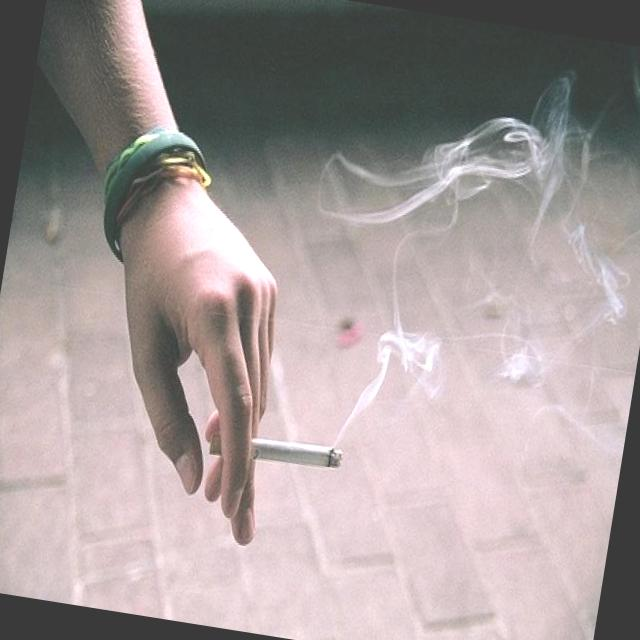smoke: (192, 412, 354, 494)
